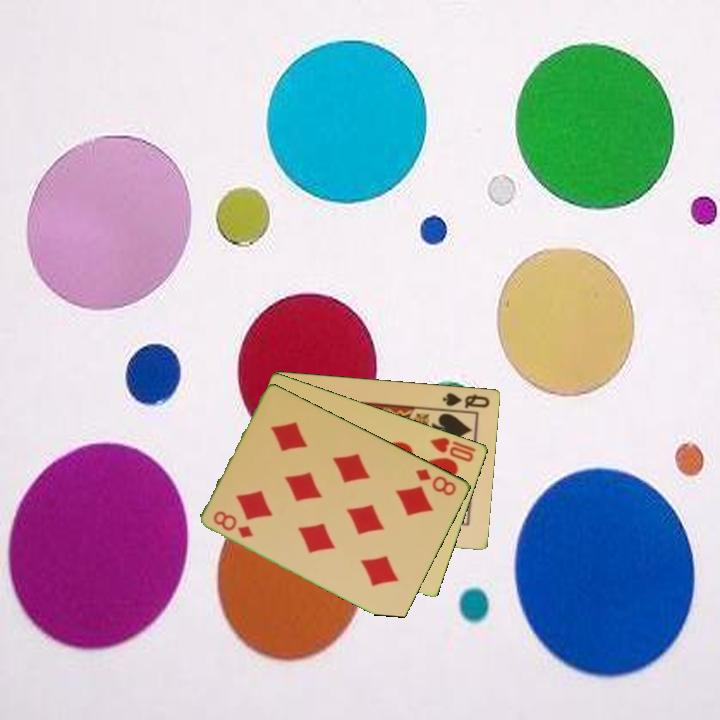10h: (426, 433, 479, 465)
8d: (412, 465, 460, 499), (210, 507, 257, 541)
Qs: (439, 389, 493, 411)
